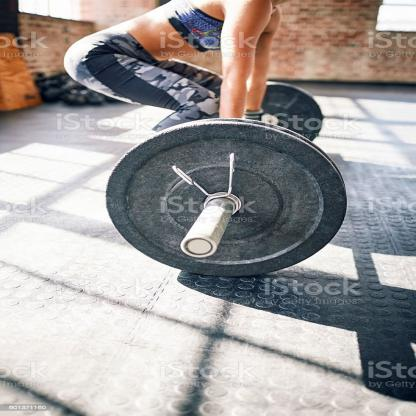Barbell: (98, 117, 358, 283)
